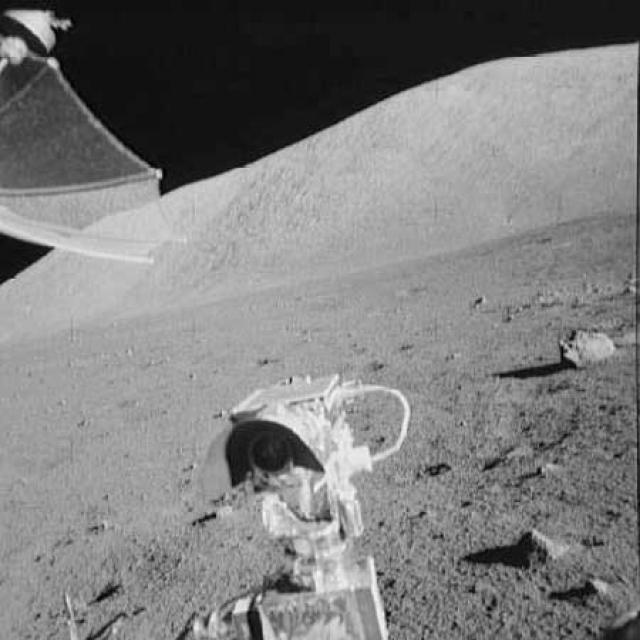artifact: (172, 360, 442, 638), (0, 2, 192, 267)
rock: (504, 511, 580, 568), (553, 318, 626, 377)
